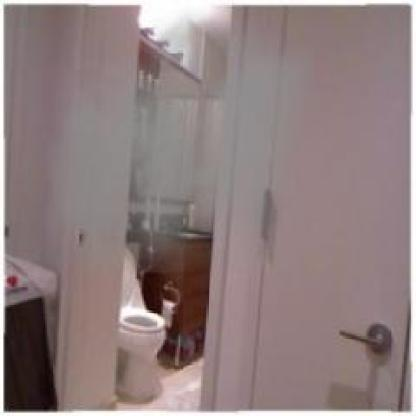Smoke: (42, 0, 313, 274)
